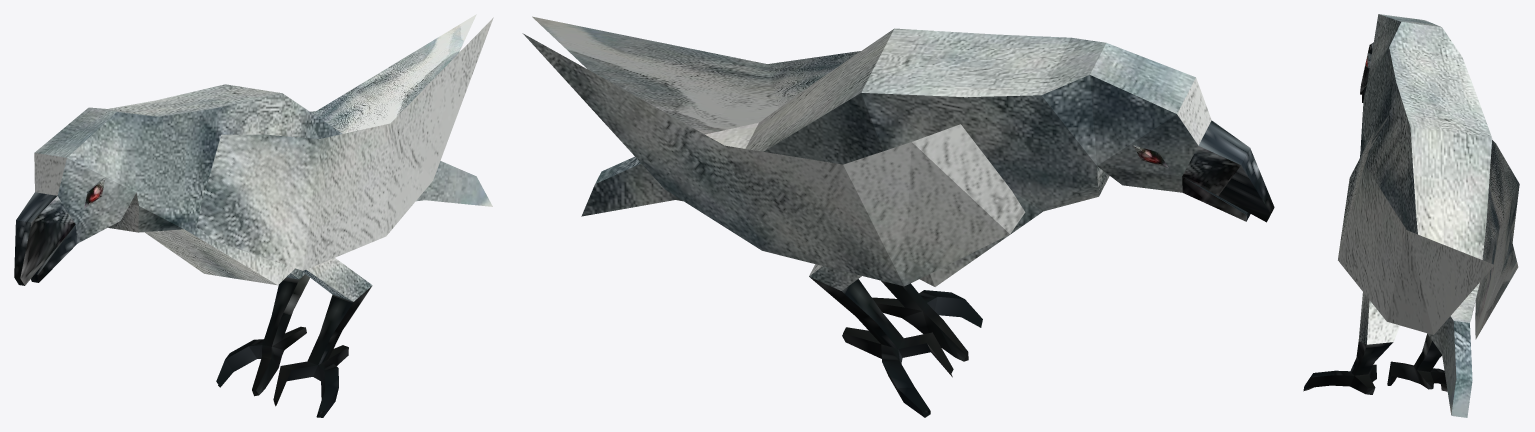
The model's file is STATIC_KRUKB.glb.
3 views of the same model, side by side, from view 1: azimuth 30°, elevation 25°; view 2: azimuth 150°, elevation 25°; view 3: azimuth 270°, elevation 25° (orthographic). The views are drawn at different scales.
Parts seen in each view (by area): view 1: STATIC_KRUKB; view 2: STATIC_KRUKB; view 3: STATIC_KRUKB.
Part boxes in pixels (x1,y1,x2,y2): STATIC_KRUKB: (14,14,493,417); STATIC_KRUKB: (522,16,1274,417); STATIC_KRUKB: (1303,14,1519,417).
Size of the model in its own units: 0.4447 by 0.2515 by 0.159.
Materials: 1 (1 with a texture image).
